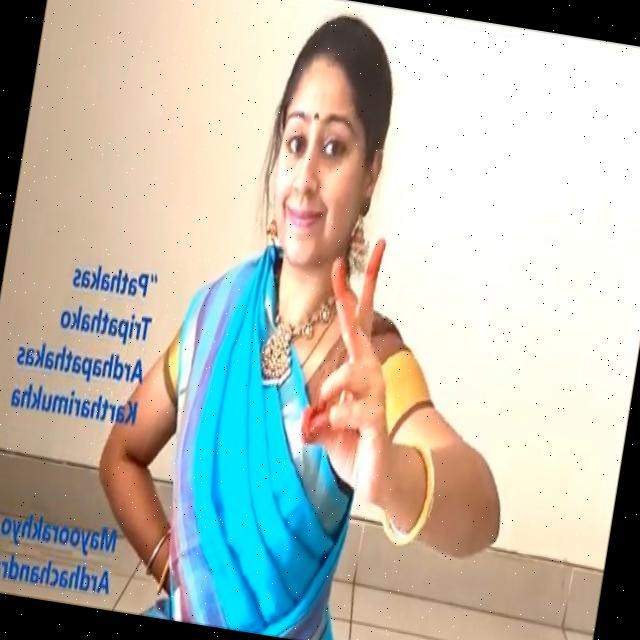Kartarimukha: (288, 226, 418, 497)
lady: (240, 9, 414, 276)
text: (0, 241, 168, 445), (0, 500, 129, 611)
